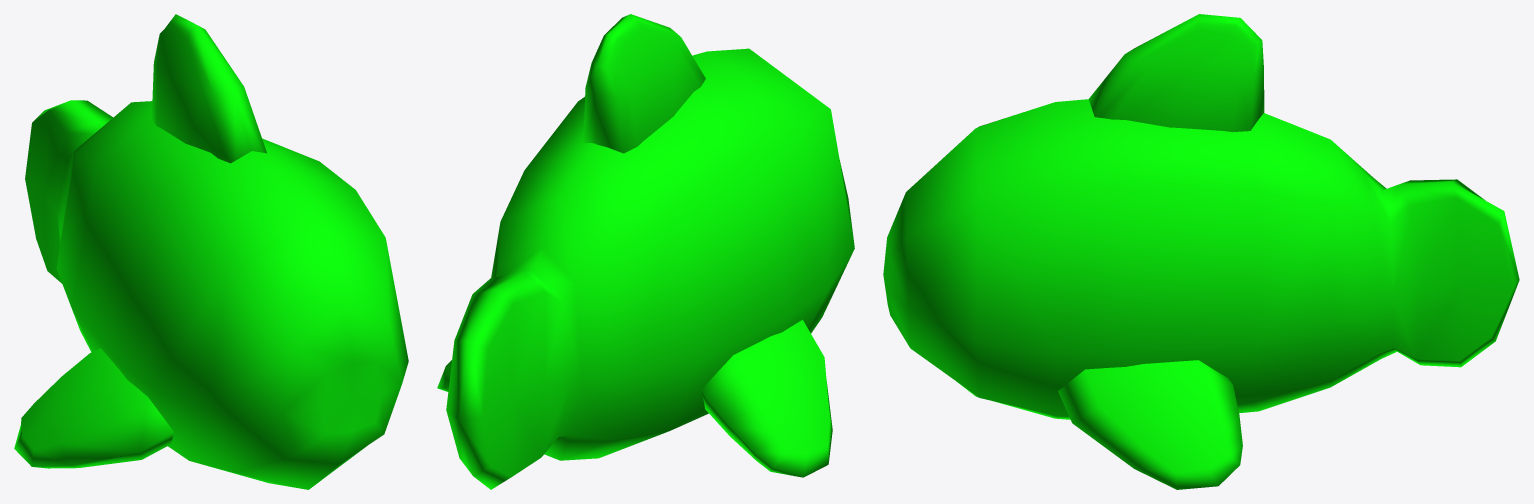
File: Fish_1.fbx
The picture shows the model from 3 angles, left to right: view 1: azimuth 30°, elevation 25°; view 2: azimuth 150°, elevation 25°; view 3: azimuth 270°, elevation 25°; orthographic projection. The views are drawn at different scales.
Visible parts, largest first — view 1: Fish_1; view 2: Fish_1; view 3: Fish_1.
Boxes of the visible parts, x1,y1,x2,y2 form: Fish_1: (14, 14, 408, 489); Fish_1: (437, 14, 854, 489); Fish_1: (883, 14, 1519, 489).
Size of the model in its own units: 224 by 249 by 351.
